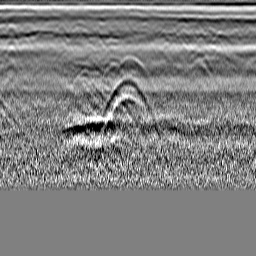cavity: (117, 54, 147, 76)
